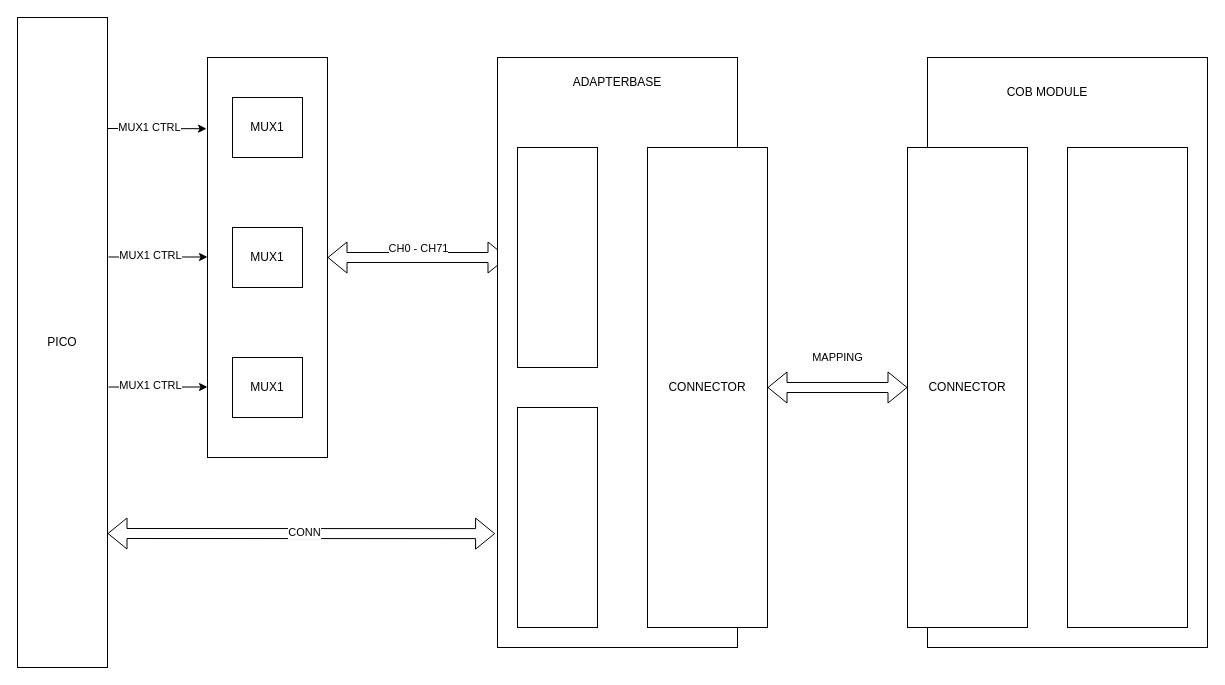
Image size: 1225x685. Some labels were removed from this diagram. The centre of each missing label's shape, as x and y in pixels:
"COB (DUT)" belongs at (x=1127, y=387).
"EEPROM" belongs at (x=557, y=517).
"TESTING" belongs at (x=557, y=257).
